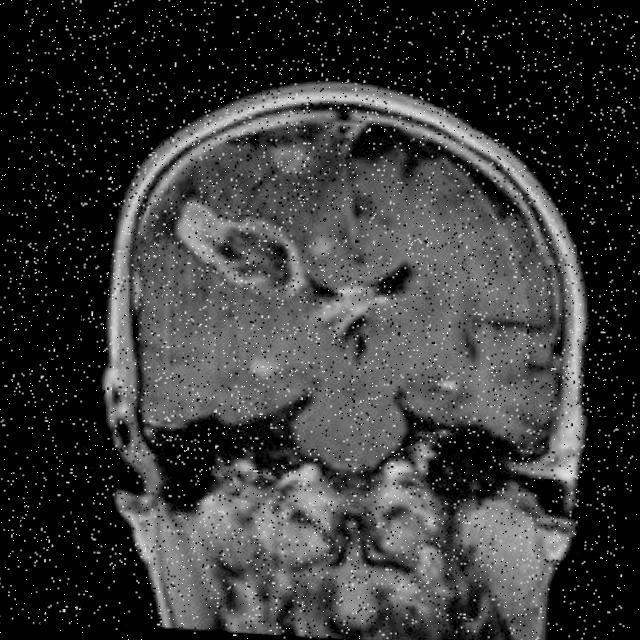CN: (132, 223, 312, 338)
